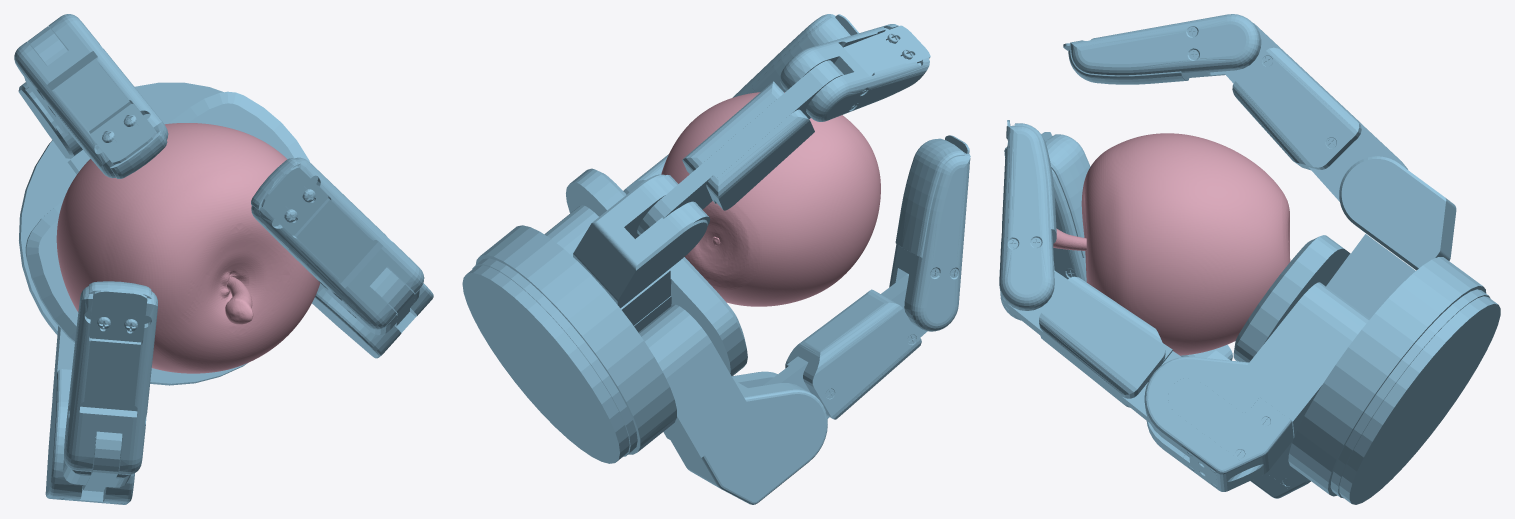
3 views of the same model, side by side, from view 1: azimuth 30°, elevation 25°; view 2: azimuth 150°, elevation 25°; view 3: azimuth 270°, elevation 25° (orthographic). The views are drawn at different scales.
Parts seen in each view (by area): view 1: world, apple.stl; view 2: world, apple.stl; view 3: world, apple.stl.
Boxes of the visible parts, x1=… form: world: x1=14, y1=14, x2=433, y2=504; apple.stl: x1=56, y1=123, x2=320, y2=373; world: x1=462, y1=14, x2=970, y2=504; apple.stl: x1=661, y1=92, x2=880, y2=306; world: x1=999, y1=14, x2=1500, y2=504; apple.stl: x1=1053, y1=133, x2=1290, y2=355.
Size of the model in its own units: 0.1506 by 0.1705 by 0.1721.
